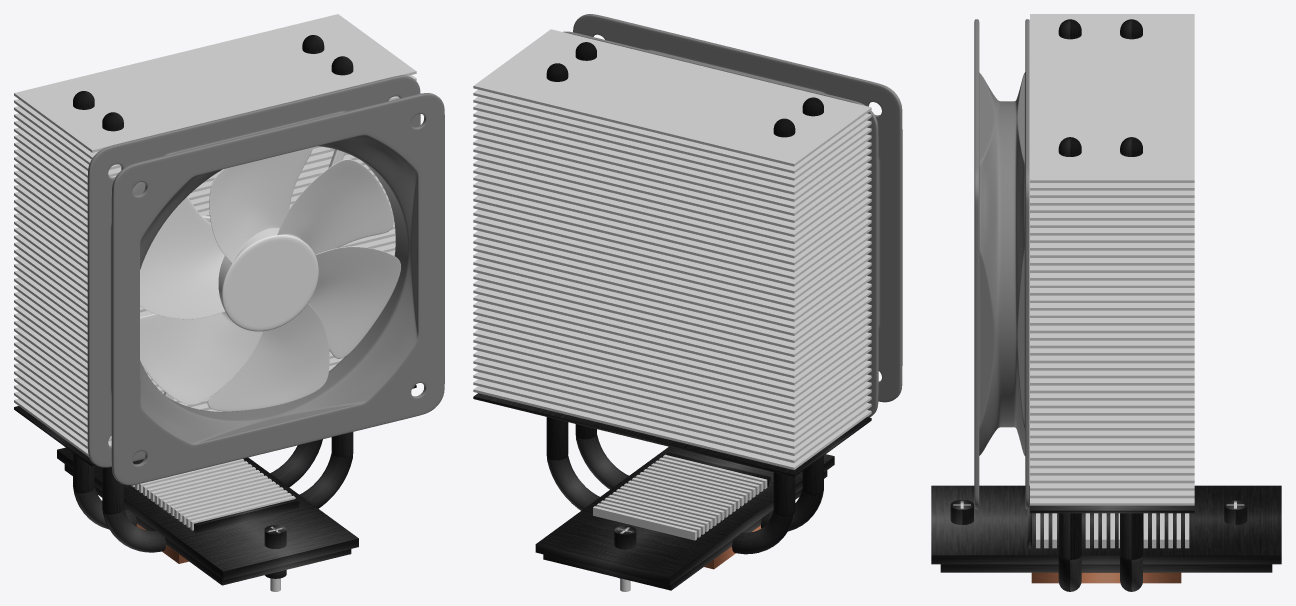
File: cpu_cooler (1).glb
3 views of the same model, side by side, from view 1: azimuth 30°, elevation 25°; view 2: azimuth 150°, elevation 25°; view 3: azimuth 270°, elevation 25° (orthographic). The views are drawn at different scales.
Parts seen in each view (by area): view 1: Circle, Circle_004, radiator_part_44, socket_bracket, copper_pipe_7, cpu_plate, copper_pipe_5, copper_pipe, small_radiator_part_0, copper_pipe_4, copper_pipe_1, radiator_part_34 (+46 smaller); view 2: radiator_part_44, Circle, socket_bracket, radiator_part_13, radiator_part_14, radiator_part_21, radiator_part_29, radiator_part_42, radiator_part_5, radiator_part_6, radiator_part_12, radiator_part_22 (+45 smaller); view 3: radiator_part_44, Circle, socket_bracket, cpu_plate, copper_pipe_2, radiator_part_0, radiator_part_2, radiator_part_4, radiator_part_6, radiator_part_8, radiator_part_10, radiator_part_12 (+43 smaller).
Part boxes in pixels (box(x1,y1,x2,y2)): Circle: box(87, 75, 444, 485); Circle_004: box(140, 147, 400, 411); radiator_part_44: box(14, 14, 416, 152); socket_bracket: box(57, 447, 358, 579); copper_pipe_7: box(103, 508, 165, 552); cpu_plate: box(64, 464, 351, 585); copper_pipe_5: box(299, 453, 352, 508); copper_pipe: box(102, 112, 123, 514); small_radiator_part_0: box(194, 498, 299, 533); copper_pipe_4: box(270, 439, 322, 487); copper_pipe_1: box(73, 91, 94, 493); radiator_part_34: box(14, 154, 358, 220); radiator_part_44: box(473, 29, 871, 166); Circle: box(563, 14, 902, 417); socket_bracket: box(535, 447, 834, 585); radiator_part_13: box(473, 301, 871, 385); radiator_part_14: box(473, 294, 871, 378); radiator_part_21: box(473, 245, 871, 328); radiator_part_29: box(473, 188, 871, 272); radiator_part_42: box(473, 96, 871, 180); radiator_part_5: box(473, 358, 871, 441); radiator_part_6: box(473, 351, 871, 434); radiator_part_12: box(473, 308, 871, 392); radiator_part_22: box(473, 238, 871, 321); radiator_part_44: box(1030, 14, 1194, 182); Circle: box(974, 19, 1029, 509); socket_bracket: box(931, 485, 1281, 564); cpu_plate: box(940, 564, 1272, 572); copper_pipe_2: box(1058, 137, 1081, 559); radiator_part_0: box(1030, 505, 1194, 513); radiator_part_2: box(1030, 490, 1194, 498); radiator_part_4: box(1030, 475, 1194, 483); radiator_part_6: box(1030, 460, 1194, 468); radiator_part_8: box(1030, 445, 1194, 453); radiator_part_10: box(1030, 430, 1194, 438); radiator_part_12: box(1030, 415, 1194, 423).
Size of the model in its own units: 0.4867 by 0.6532 by 0.4231.
Materials: 6 (2 with a texture image).
